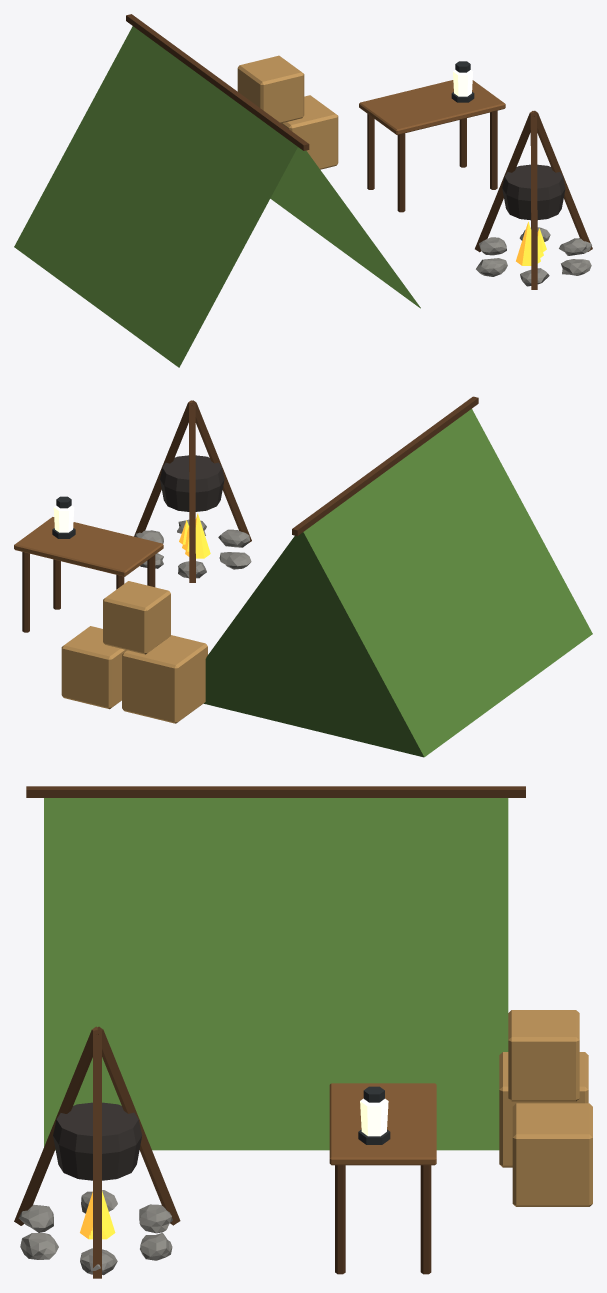
Rendered from for_camp_v01.glb.
3 views of the same model, one above another, from view 1: azimuth 30°, elevation 25°; view 2: azimuth 150°, elevation 25°; view 3: azimuth 270°, elevation 25° (orthographic). The views are drawn at different scales.
Parts seen in each view (by area): view 1: camp; view 2: camp; view 3: camp.
Part boxes in pixels (x1,y1,x2,y2): camp: [14, 14, 592, 367]; camp: [14, 396, 592, 757]; camp: [14, 786, 592, 1278].
Size of the model in its own units: 3.93 by 1.74 by 3.24.
